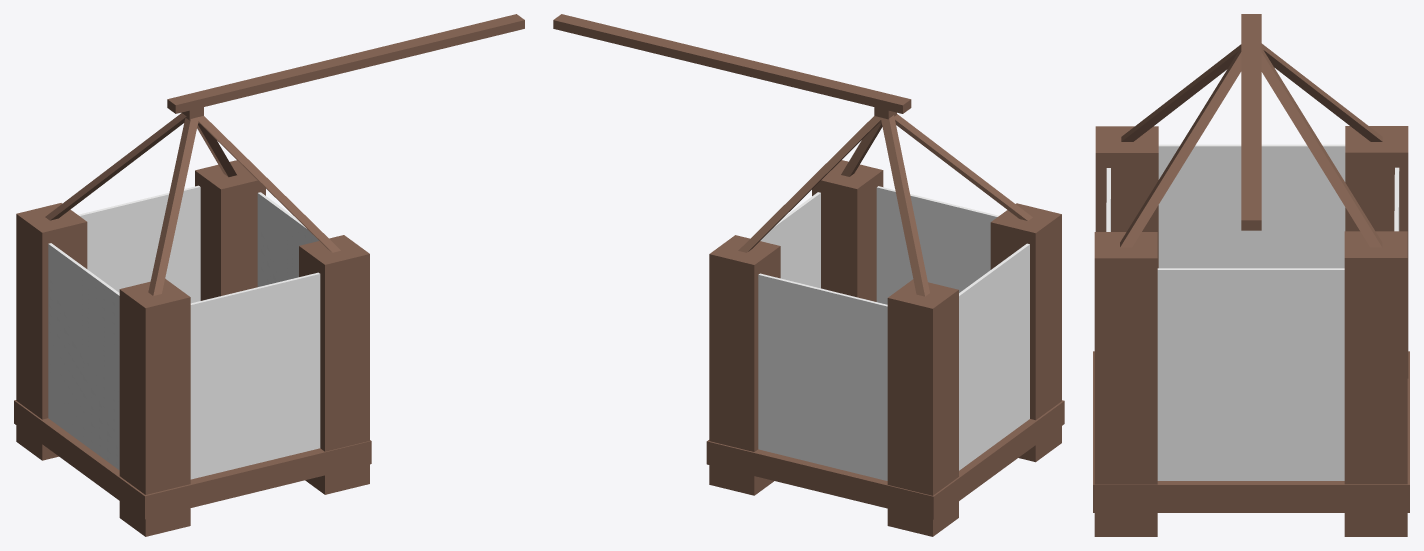
The model's file is lanp.fbx.
3 views of the same model, side by side, from view 1: azimuth 30°, elevation 25°; view 2: azimuth 150°, elevation 25°; view 3: azimuth 270°, elevation 25° (orthographic). The views are drawn at different scales.
Visible parts, largest first — view 1: Cube.001; view 2: Cube.001; view 3: Cube.001.
Part boxes in pixels (<box>): Cube.001: <box>14,14,524,536</box>; Cube.001: <box>553,14,1064,536</box>; Cube.001: <box>1093,14,1409,536</box>.
Bounding box in the file's own units: 411 × 327 × 211.
